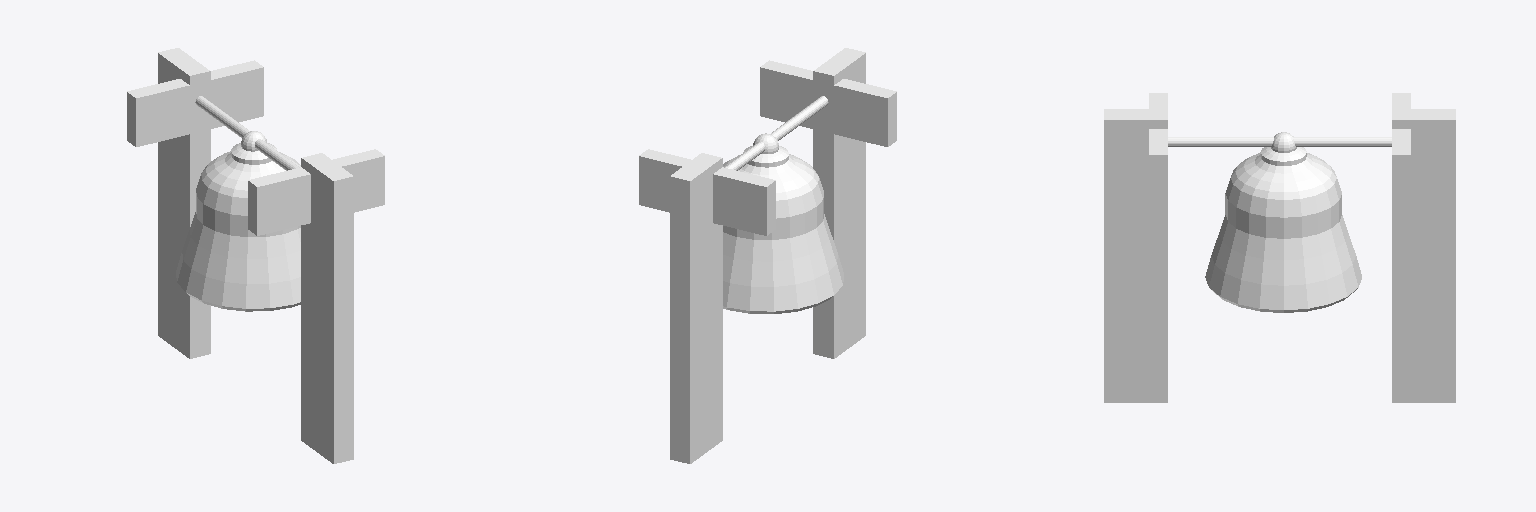
The model's file is BELL.obj.
3 views of the same model, side by side, from view 1: azimuth 30°, elevation 25°; view 2: azimuth 150°, elevation 25°; view 3: azimuth 270°, elevation 25° (orthographic).
Parts seen in each view (by area): view 1: pCube14; view 2: pCube14; view 3: pCube14.
Part boxes in pixels (left/top/right/bottom): pCube14: left=127, top=48, right=384, bottom=463; pCube14: left=639, top=48, right=896, bottom=463; pCube14: left=1104, top=93, right=1455, bottom=402.
Bounding box in the file's own units: 2.96 × 5.87 × 6.61.